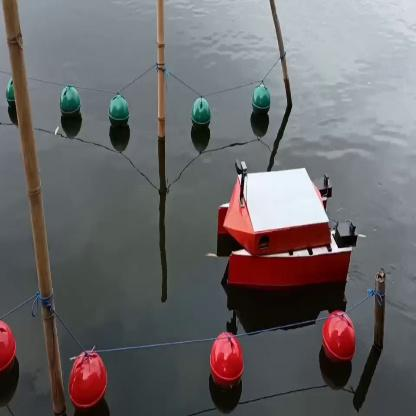green_buoy: (58, 86, 80, 122), (107, 99, 130, 132), (190, 96, 211, 132), (250, 86, 271, 118), (5, 76, 15, 111)
red_buoy: (68, 345, 108, 409), (208, 336, 250, 390), (322, 314, 353, 370), (0, 328, 16, 376)
